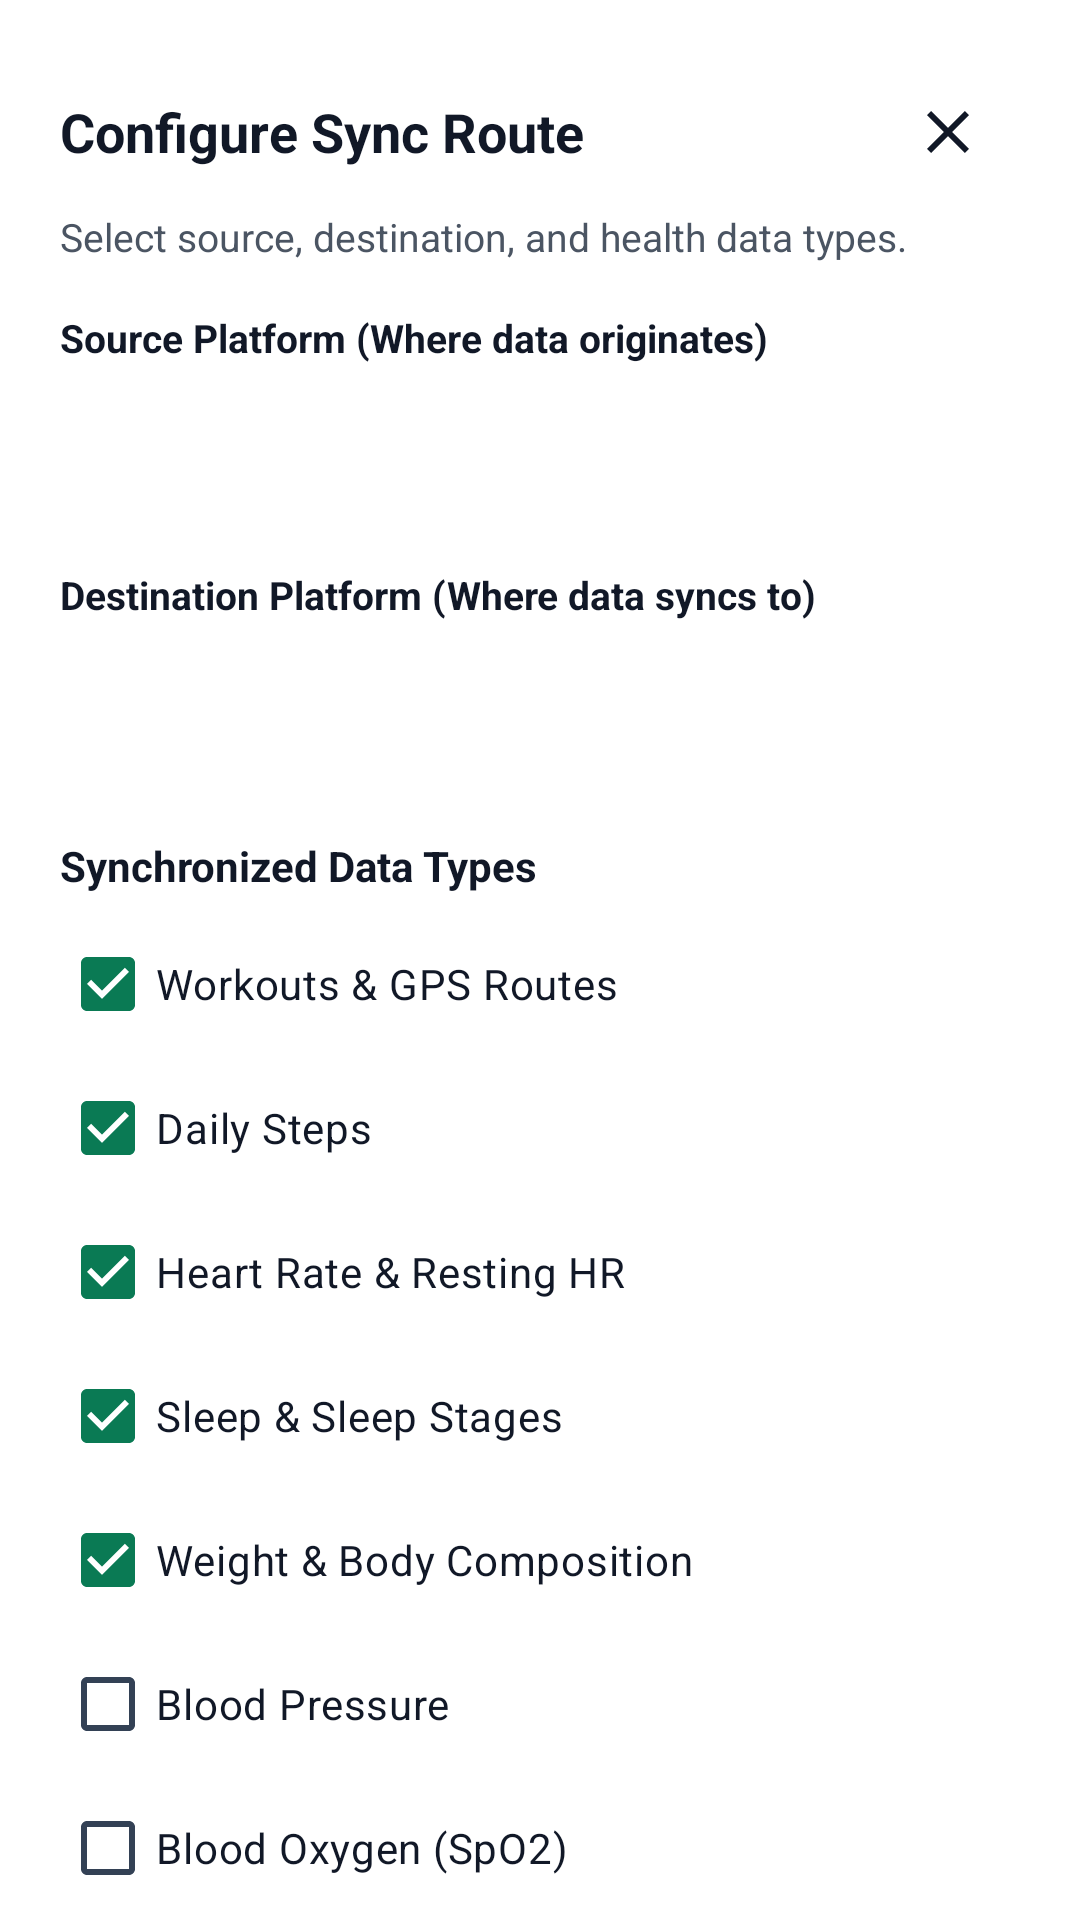

Screen size 1080 x 1920. Icon name, then its box in pixels as (x1, y1, x2, y2):
Close: (927, 111, 969, 153)
